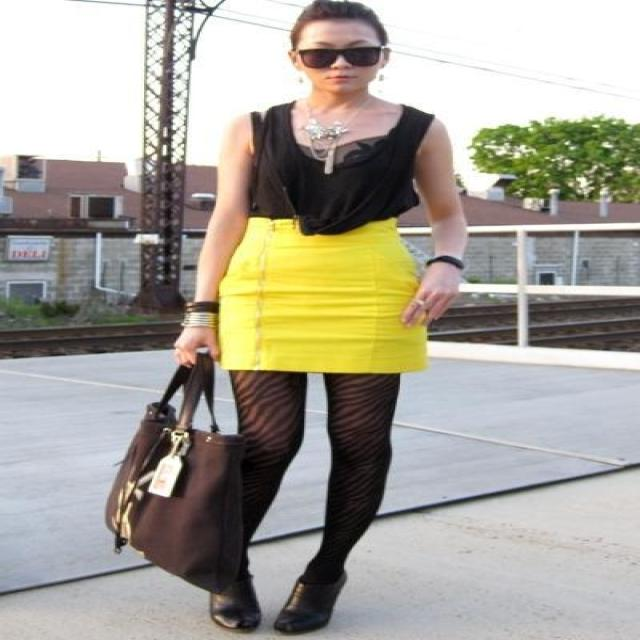bag: (93, 350, 264, 592)
shirt: (244, 101, 433, 235)
shoe: (208, 562, 346, 634)
skirt: (219, 218, 440, 374)
sunglass: (299, 41, 387, 68)
